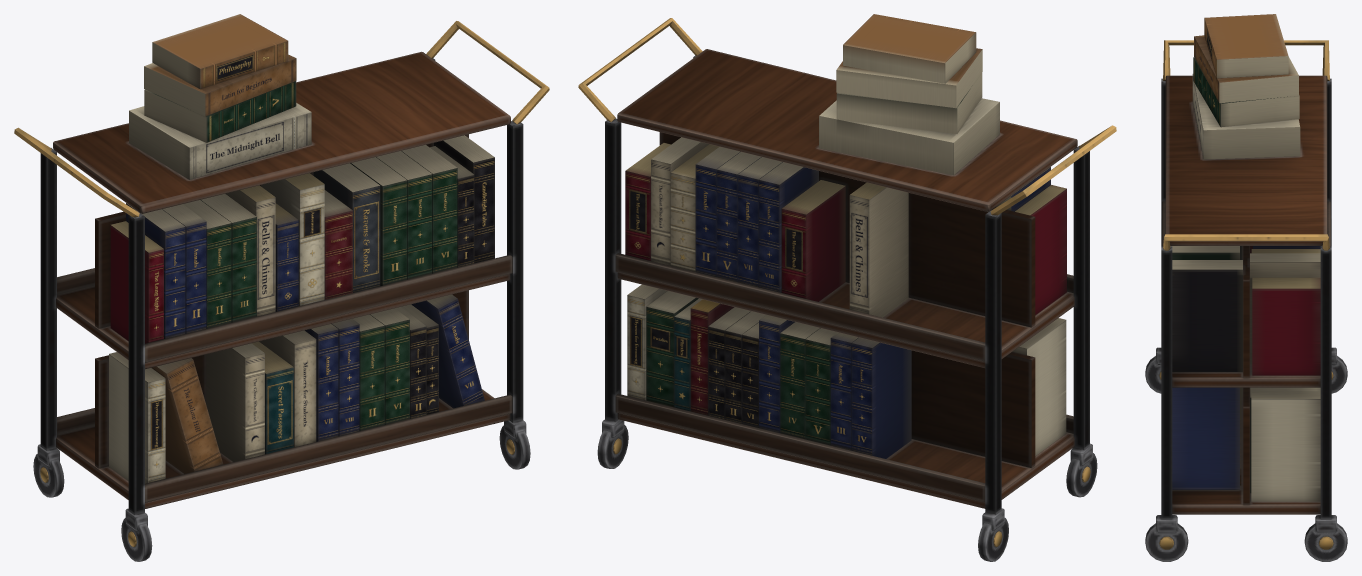
The model's file is BookCart.fbx.
The picture shows the model from 3 angles, left to right: view 1: azimuth 30°, elevation 25°; view 2: azimuth 150°, elevation 25°; view 3: azimuth 270°, elevation 25°; orthographic projection. The views are drawn at different scales.
Visible parts, largest first — view 1: BookCart; view 2: BookCart; view 3: BookCart.
Boxes of the visible parts, x1,y1,x2,y2 form: BookCart: [14, 14, 549, 561]; BookCart: [578, 14, 1116, 561]; BookCart: [1145, 14, 1347, 561].
Size of the model in its own units: 434 by 423 by 188.
